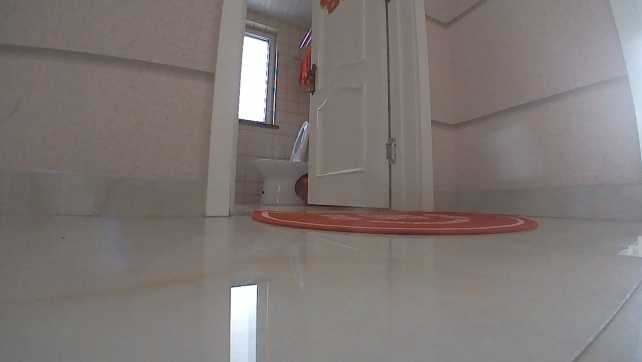blanket: (249, 205, 538, 235)
door_anno: (301, 2, 436, 211)
toilet: (255, 120, 309, 207)
